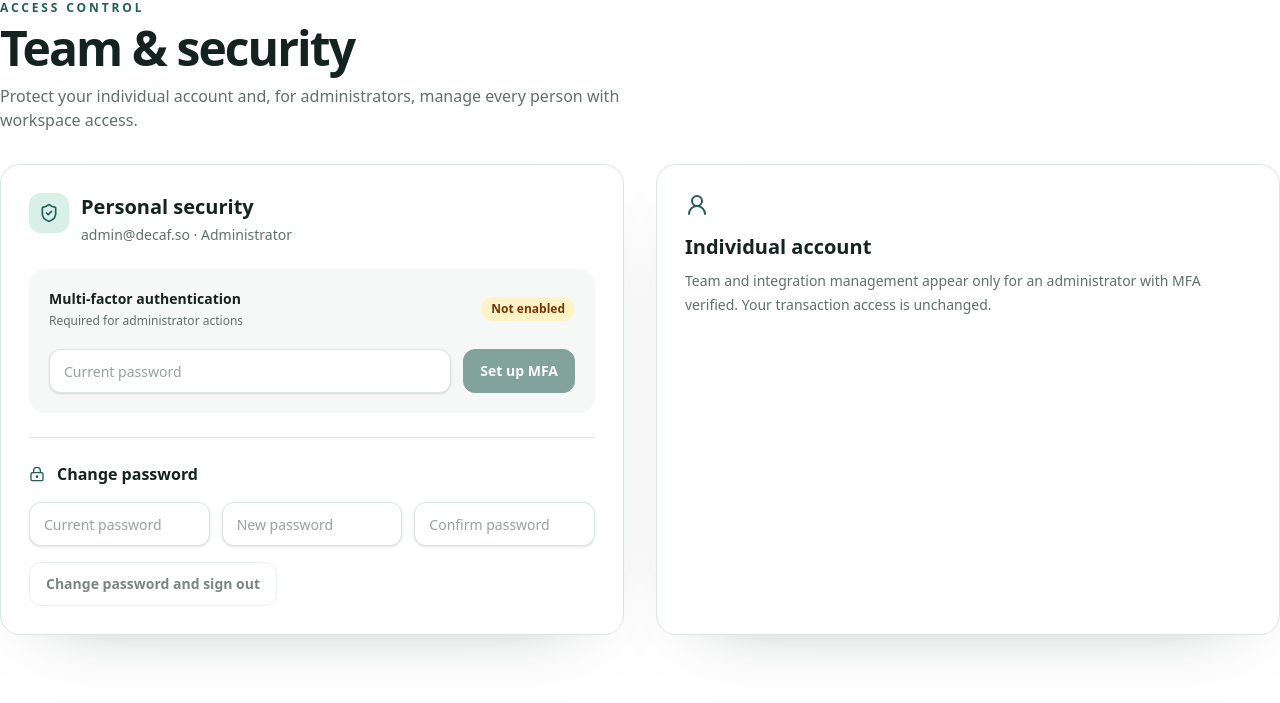
PartnerPortalTeamSecurity › enrolls MFA and replaces the session before revealing recovery codes
Expected: the element "Personal security" is shown, 0,164 -> 624,635
Type "current secure password" into the password field with placeholder "Current password" below "Required for administrator actions" at (250, 371), box 49,349 -> 451,393
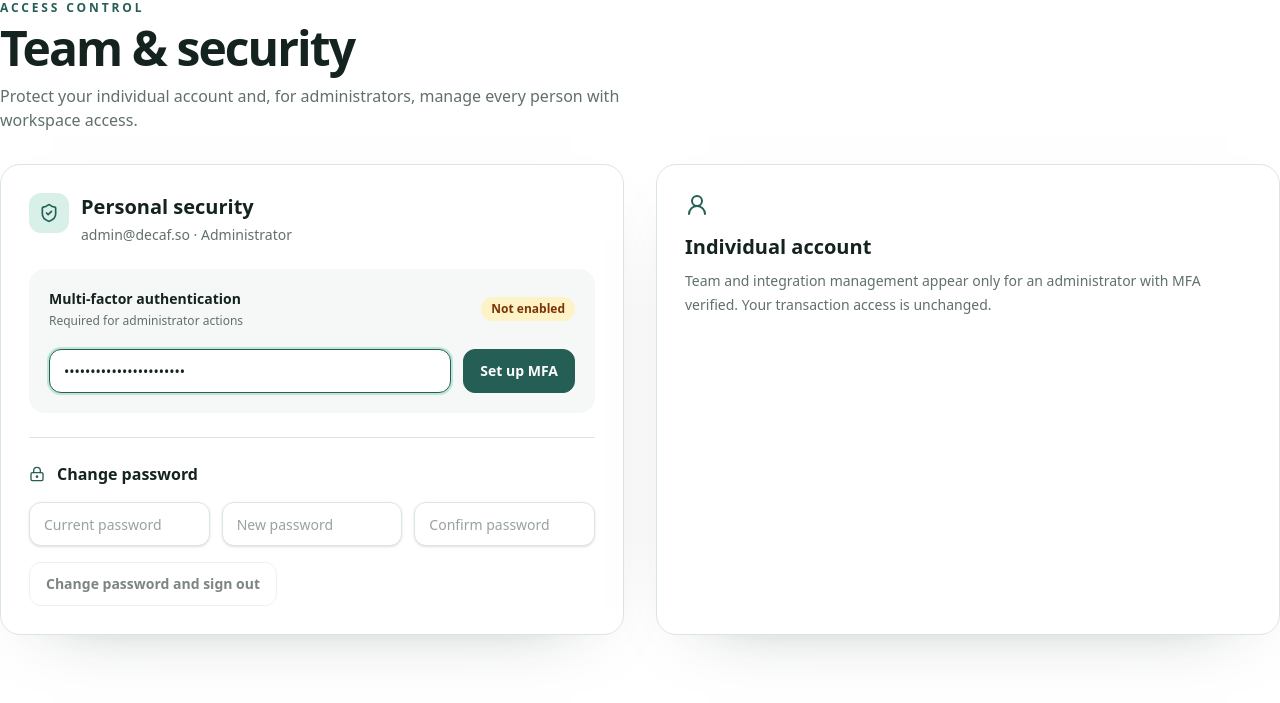
Expected: the password field with placeholder "Current password" is empty, 29,502 -> 210,546
Click the button "Set up MFA" at (519, 371), box 463,349 -> 575,393
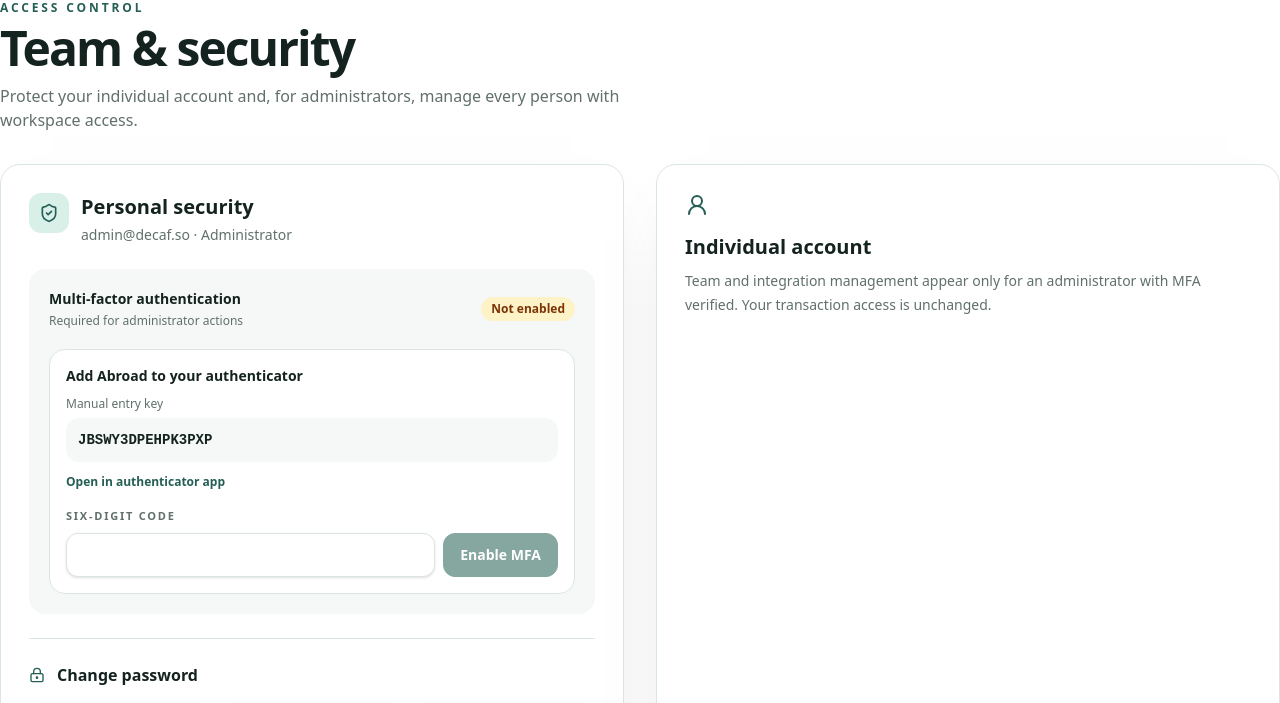
Expected: the text "JBSWY3DPEHPK3PXP" is shown, 66,418 -> 558,462
Type "123456" into the field labelled "Six-digit code" at (251, 554), box 66,532 -> 435,576
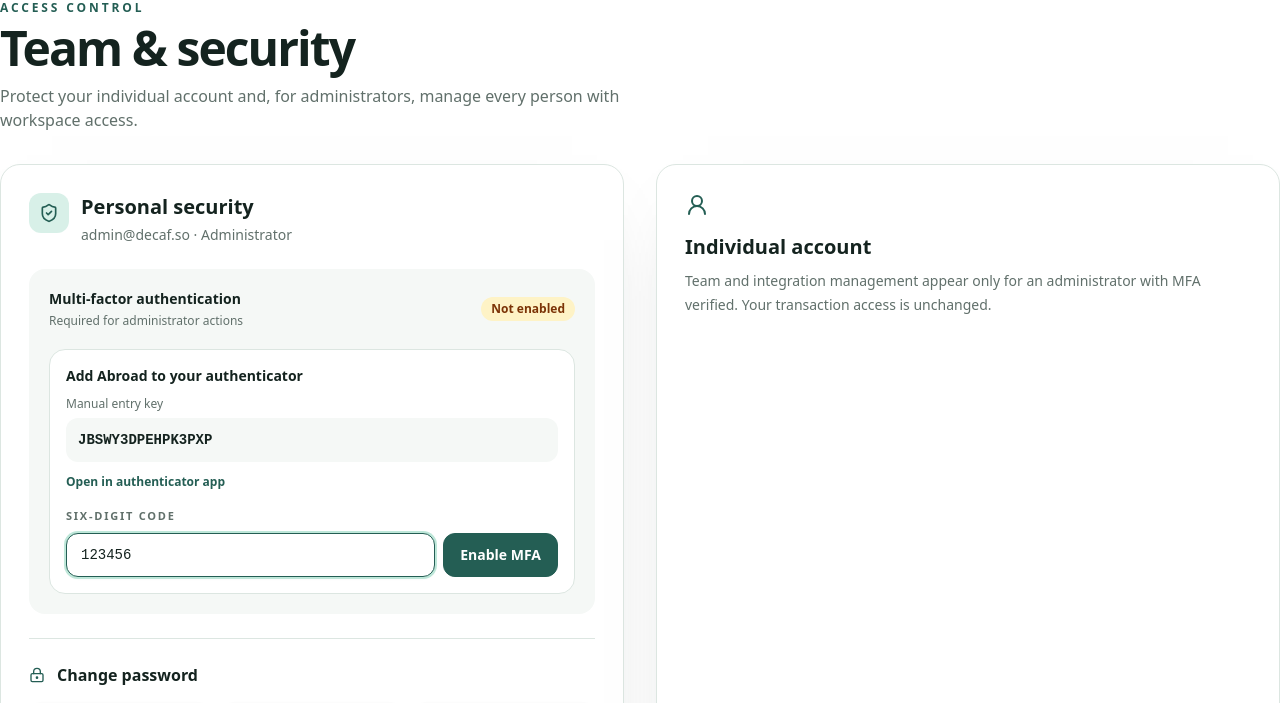
Click the button "Enable MFA" at (501, 554), box 443,532 -> 558,576
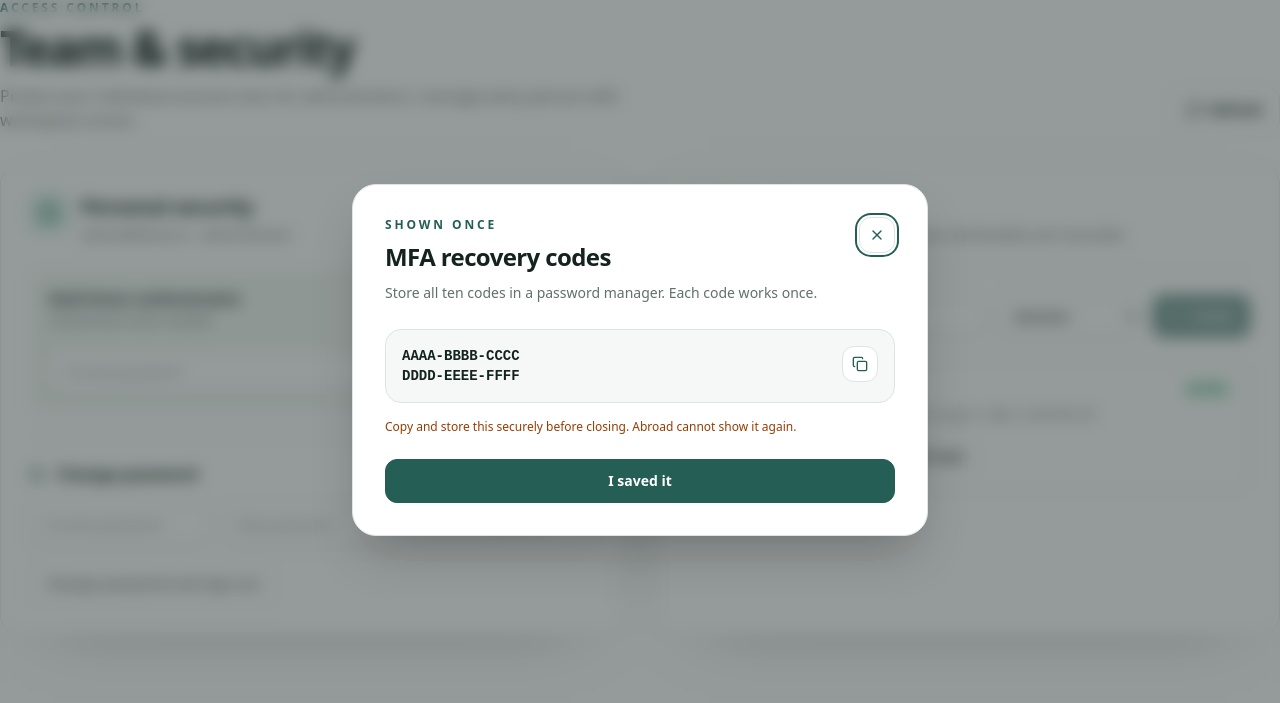
Expected: the dialog shows "AAAA-BBBB-CCCC", 402,348 -> 520,384
